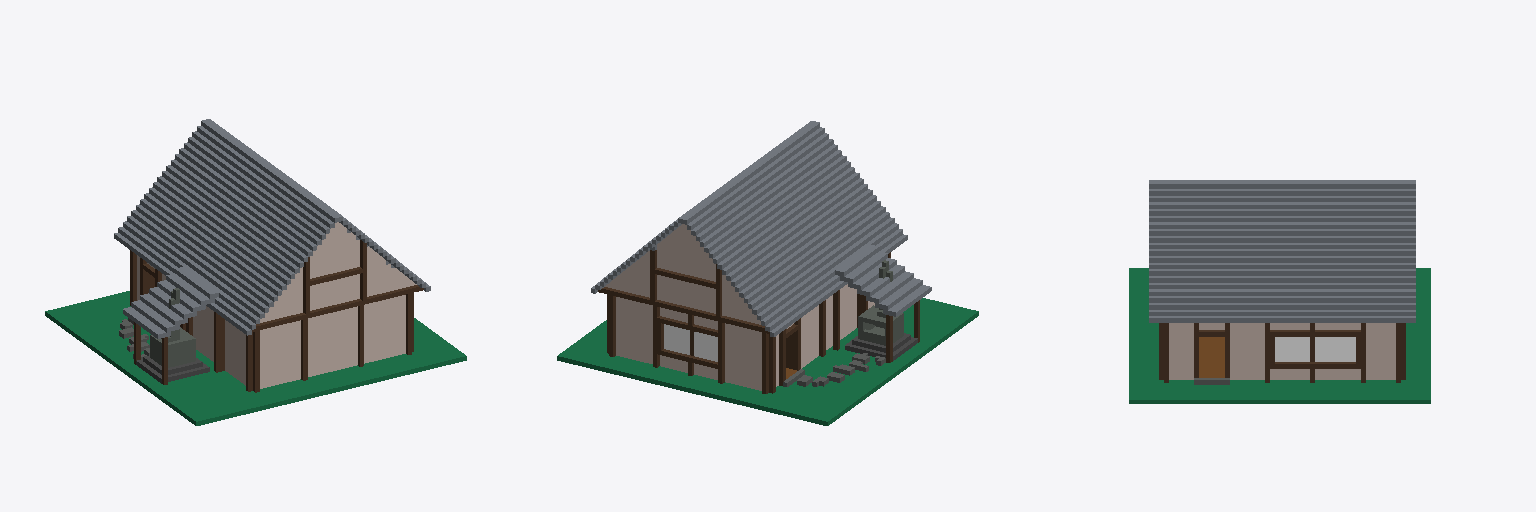
The picture shows the model from 3 angles: view 1: azimuth 30°, elevation 25°; view 2: azimuth 150°, elevation 25°; view 3: azimuth 270°, elevation 25°; orthographic projection.
Visible parts, largest first — view 1: object 1; view 2: object 1; view 3: object 1.
Boxes of the visible parts, x1=… form: object 1: x1=45, y1=119, x2=466, y2=425; object 1: x1=557, y1=121, x2=978, y2=425; object 1: x1=1129, y1=180, x2=1430, y2=403.
Bounding box in the file's own units: 6.2 × 3.6 × 6.
1 materials, 1 textured.